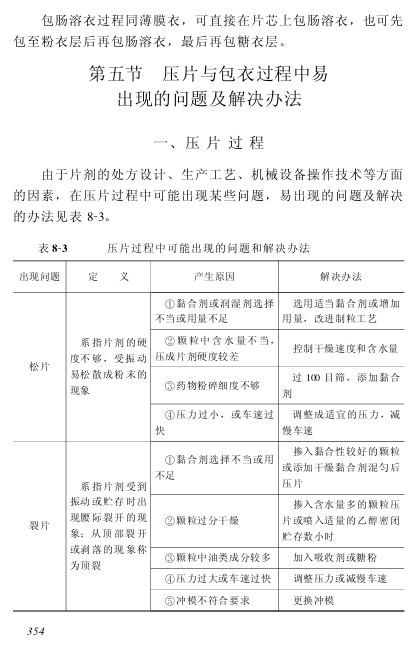table: (12, 259, 404, 612)
